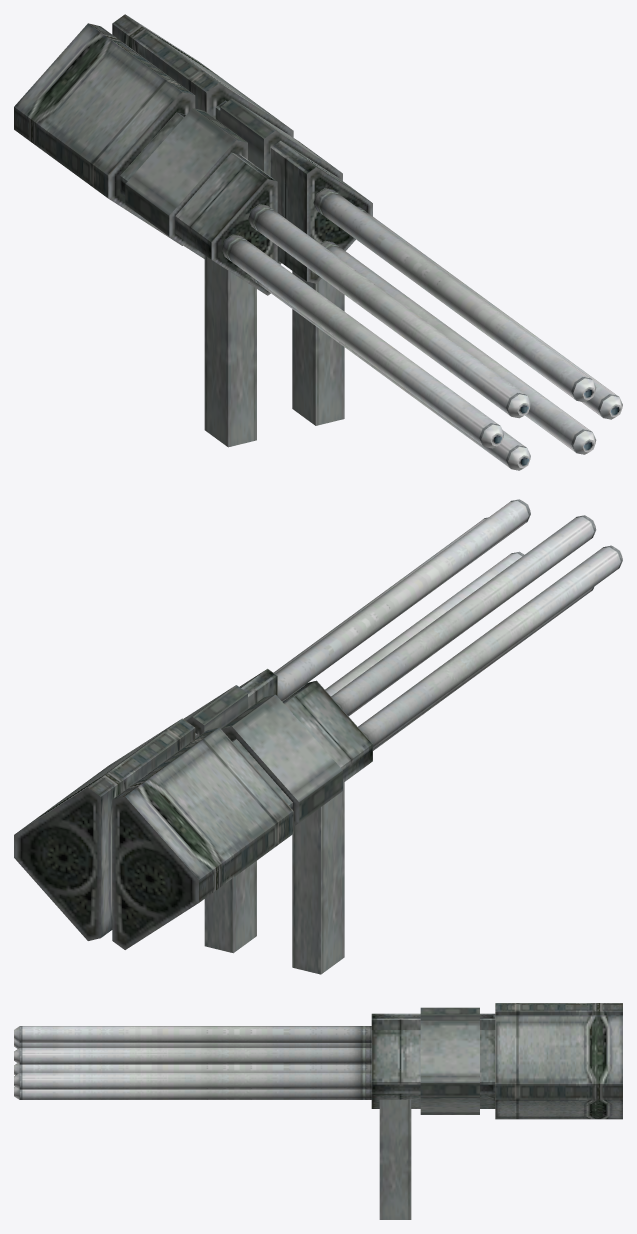
The model's file is ywing_weapon2_s04_l0.fbx.
3 views of the same model, one above another, from view 1: azimuth 30°, elevation 25°; view 2: azimuth 150°, elevation 25°; view 3: azimuth 270°, elevation 25° (orthographic). The views are drawn at different scales.
Visible parts, largest first — view 1: mesh_node; view 2: mesh_node; view 3: mesh_node.
Part boxes in pixels (x1,y1,x2,y2): mesh_node: (14,14,622,470); mesh_node: (14,499,622,974); mesh_node: (14,1003,622,1219).
Bounding box in the file's own units: 0.4554 × 0.6648 × 1.92.
